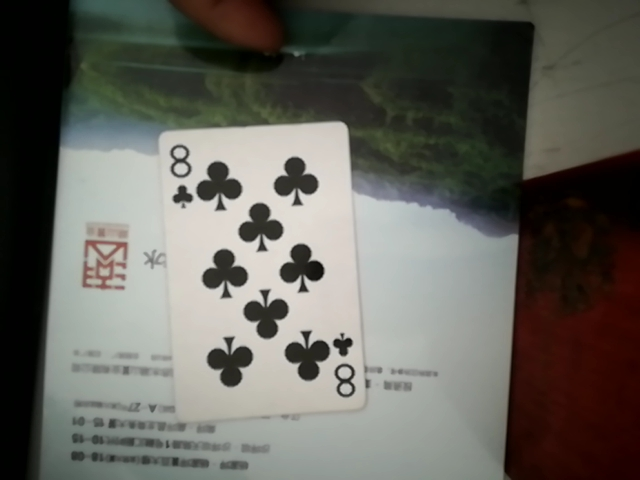mh 8: (160, 114, 361, 432)
